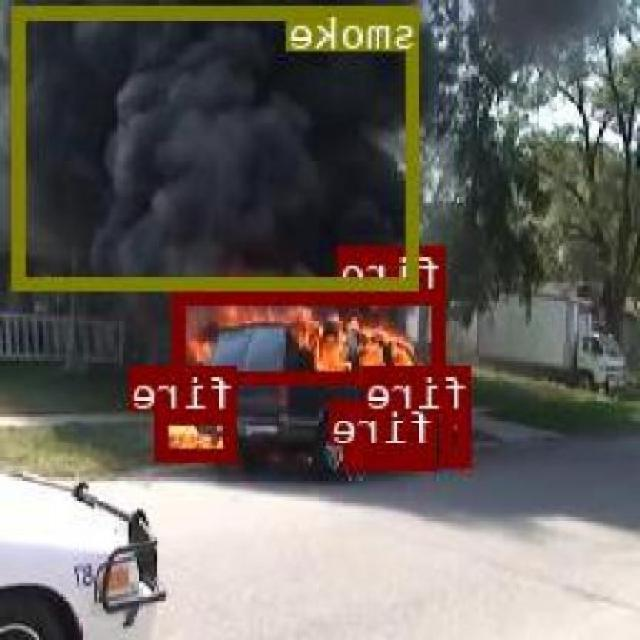Fire: (176, 288, 447, 382), (160, 411, 240, 458)
Smoke: (15, 3, 422, 286)
